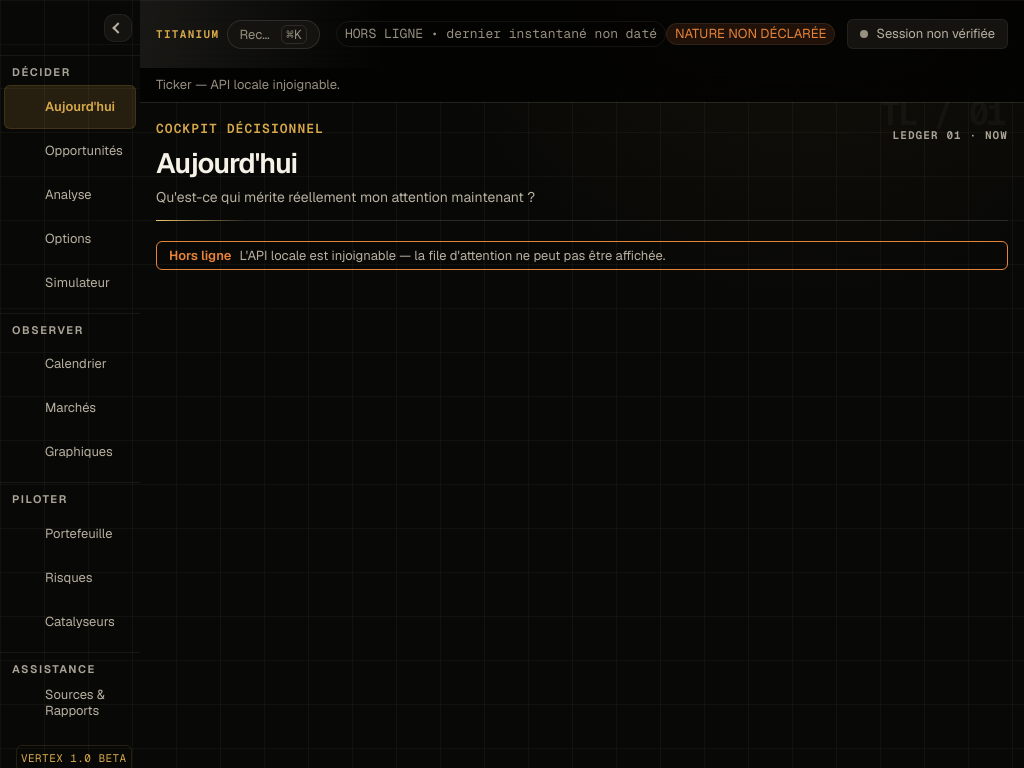
Scenario: NavRail — groupes et liens › navigue au clic vers une autre page
The width and height of the screenshot is (1024, 768).
Click the link "Options" at (52, 238), box left=13, top=228, right=91, bottom=248
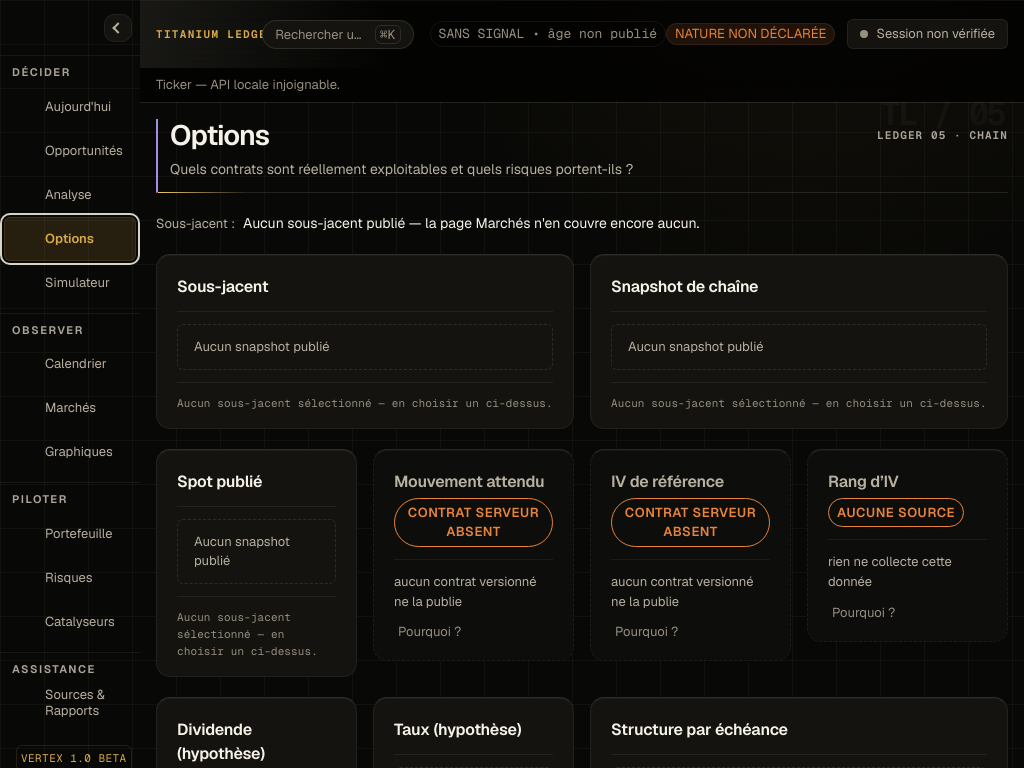
Result: the heading "Options" is shown at left=170, top=117, right=269, bottom=153
